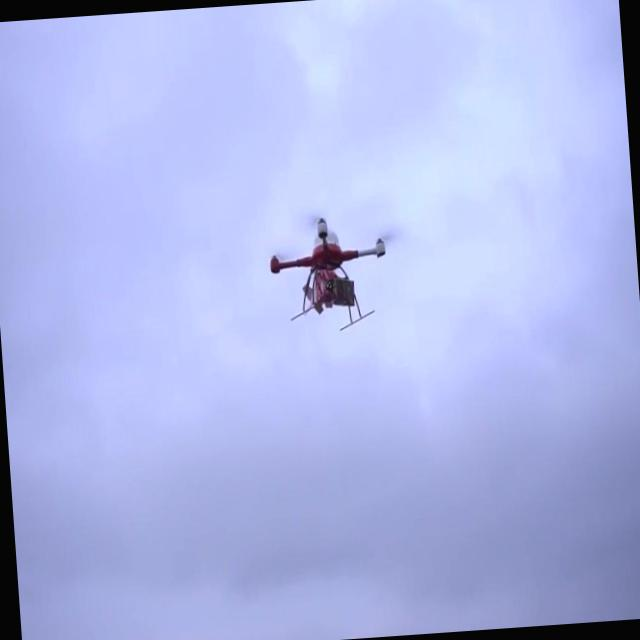drone: (266, 207, 391, 341)
